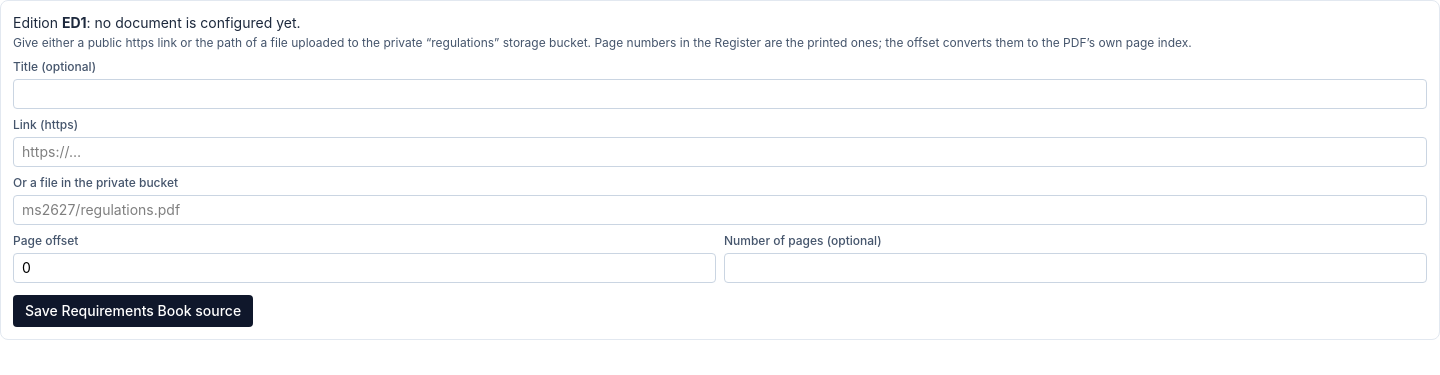
Test: configuring the Requirements Book › refuses the link http://example.org/a.pdf without asking the database
Step 1. Type "http://example.org/a.pdf" into the field labelled "Link (https)" → coordinates (720, 152), box [13,137,1427,167]
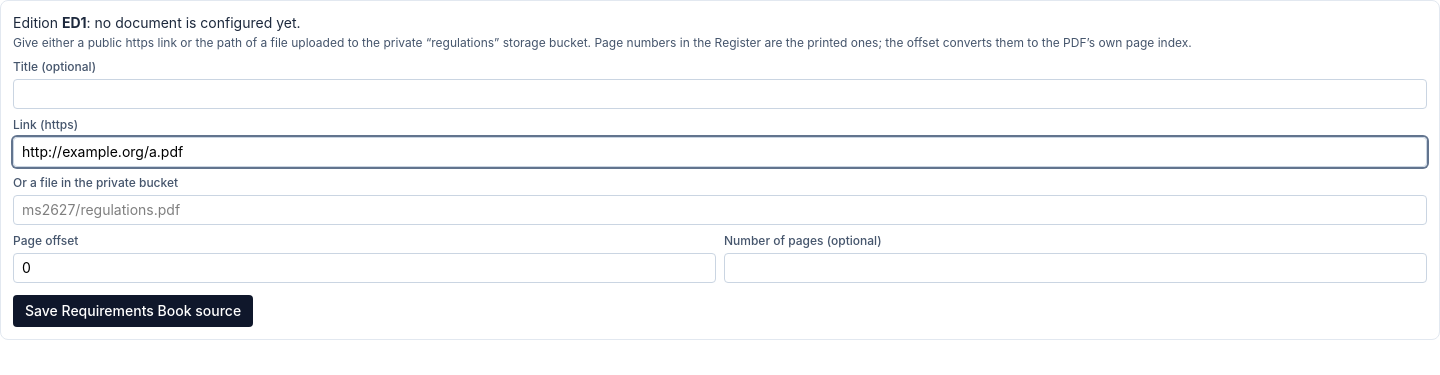
Step 2. Click the button "Save Requirements Book source" → coordinates (133, 311), box [13,295,253,327]
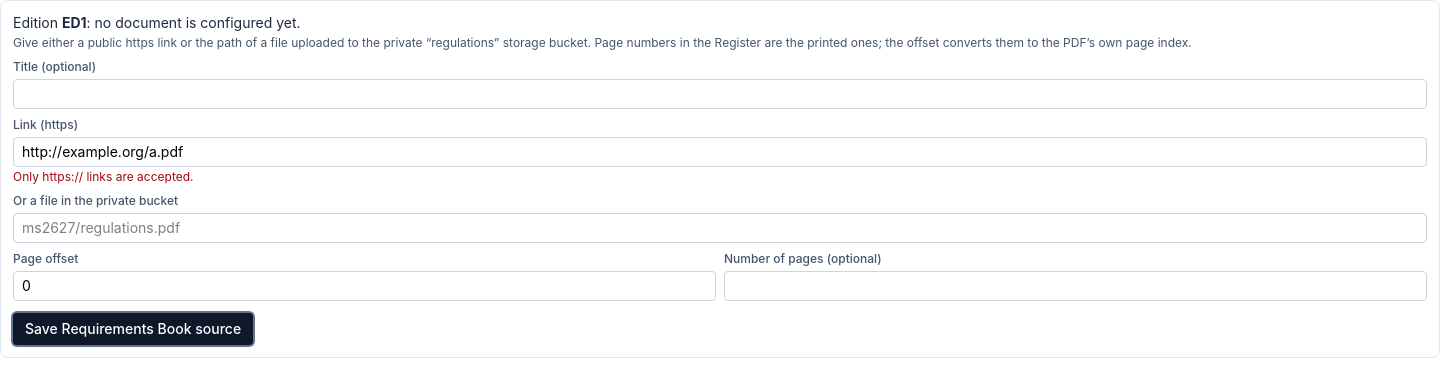
expect the message shows "https": met, box [13,169,194,184]
